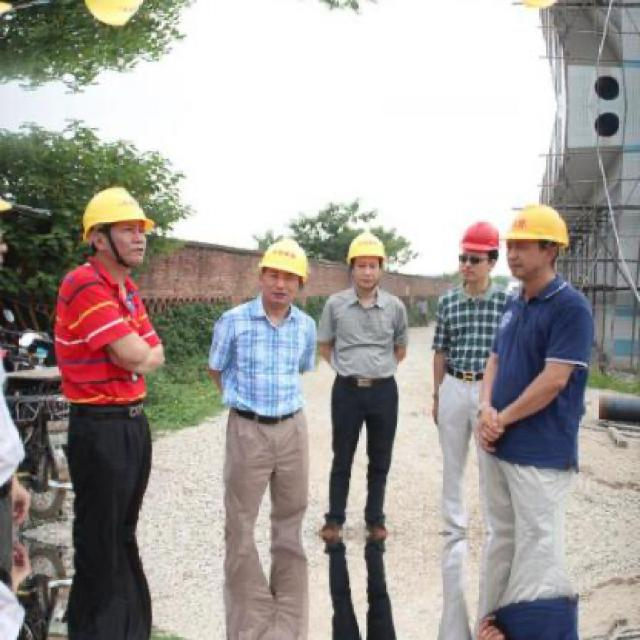helmet: (80, 185, 157, 273), (503, 200, 571, 280), (255, 236, 311, 311), (458, 216, 502, 288), (344, 231, 388, 293), (79, 0, 157, 29)
